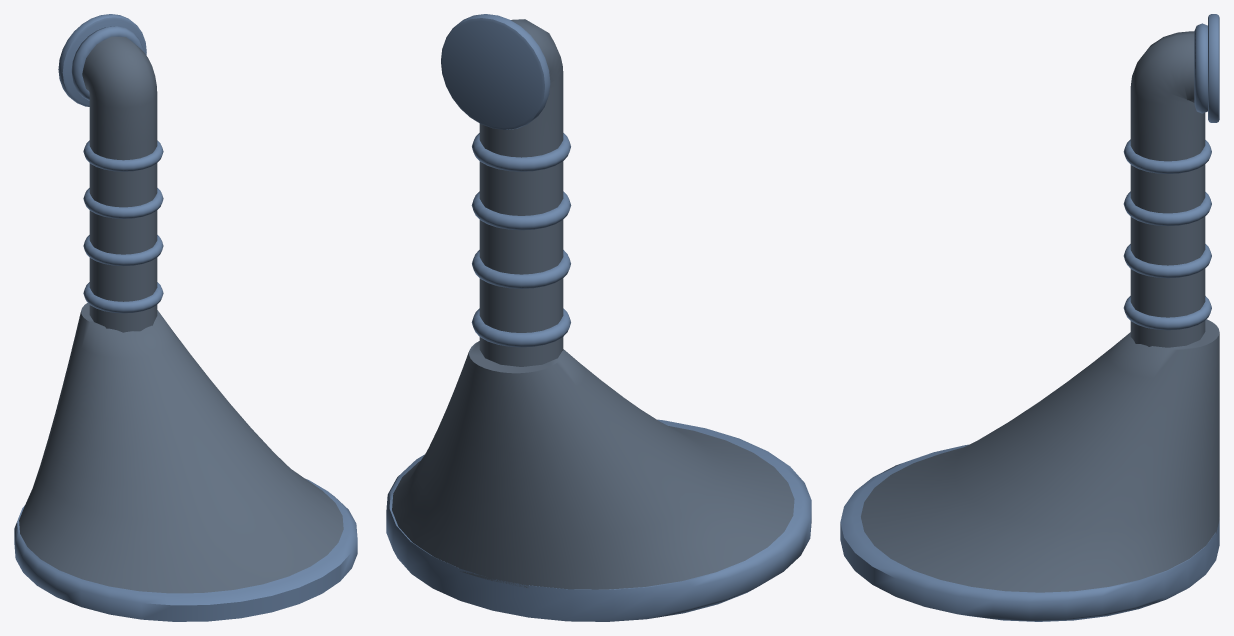
Rendered from coifa_tubo_azul.glb.
3 renders of one model, left to right at view 1: azimuth 30°, elevation 25°; view 2: azimuth 150°, elevation 25°; view 3: azimuth 270°, elevation 25°, orthographic. The views are drawn at different scales.
Parts seen in each view (by area): view 1: coifa_tubo_azul; view 2: coifa_tubo_azul; view 3: coifa_tubo_azul.
Part boxes in pixels (left/top/right/bottom): coifa_tubo_azul: left=14, top=14, right=357, bottom=621; coifa_tubo_azul: left=386, top=14, right=811, bottom=621; coifa_tubo_azul: left=840, top=14, right=1219, bottom=621.
Bounding box in the file's own units: 0.66 × 1.01 × 0.66.
2 materials, 1 textured.
